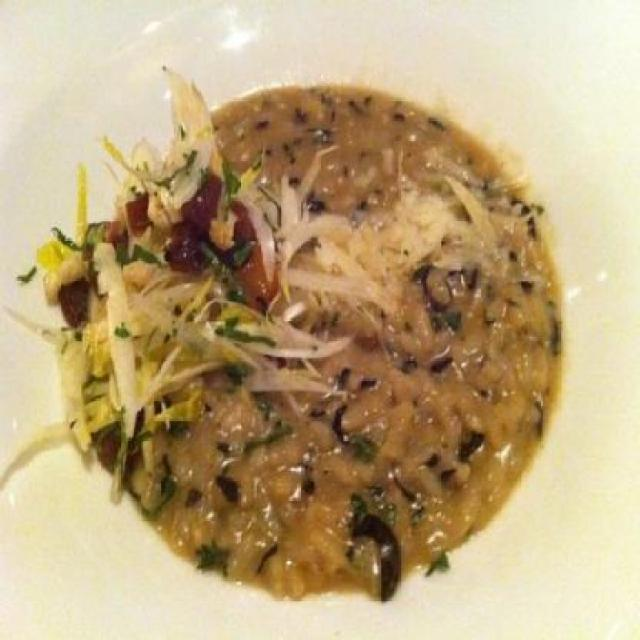Risotto: (93, 87, 556, 595)
